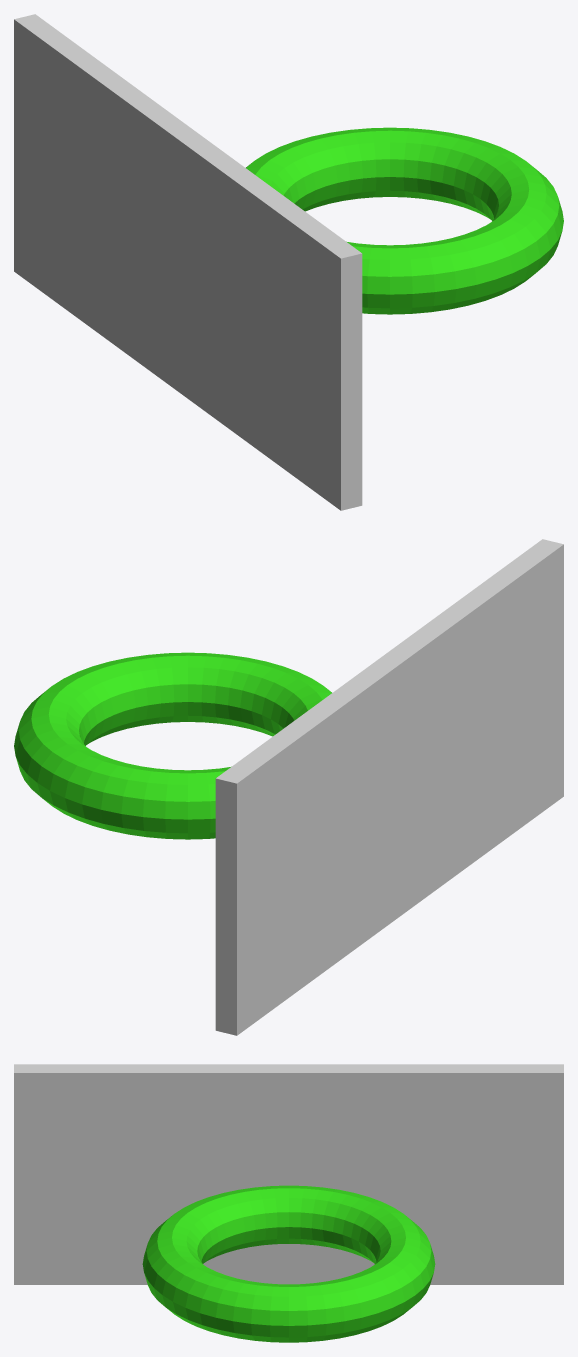
File: glass_06.gltf
3 renders of one model, top to bottom at view 1: azimuth 30°, elevation 25°; view 2: azimuth 150°, elevation 25°; view 3: azimuth 270°, elevation 25°, orthographic. The views are drawn at different scales.
Visible parts, largest first — view 1: Object, Torus; view 2: Object, Torus; view 3: Object, Torus.
Boxes of the visible parts, box(x1,y1,x2,y2) form: Object: box(14, 14, 362, 510); Torus: box(246, 127, 563, 314); Object: box(215, 539, 563, 1035); Torus: box(14, 652, 331, 839); Object: box(14, 1064, 563, 1284); Torus: box(142, 1185, 435, 1342).
Bounding box in the file's own units: 3.01 × 2 × 4.7.
